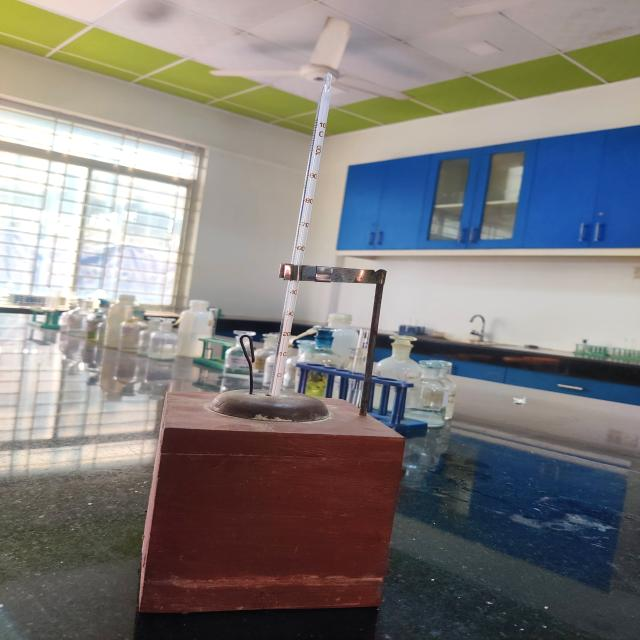Calorimeter: (94, 60, 452, 625)
